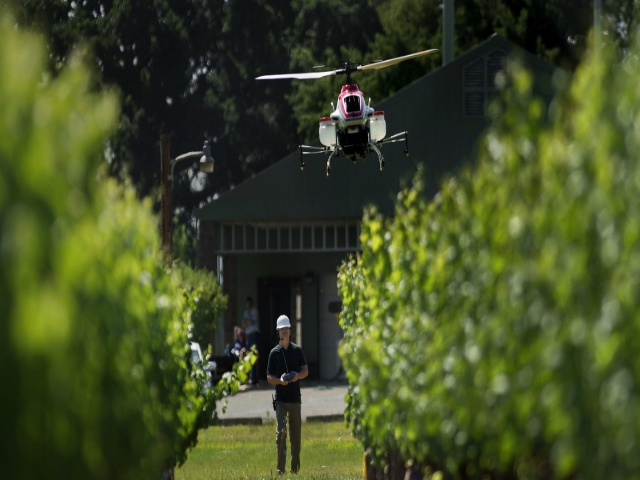drone: (249, 44, 443, 175)
